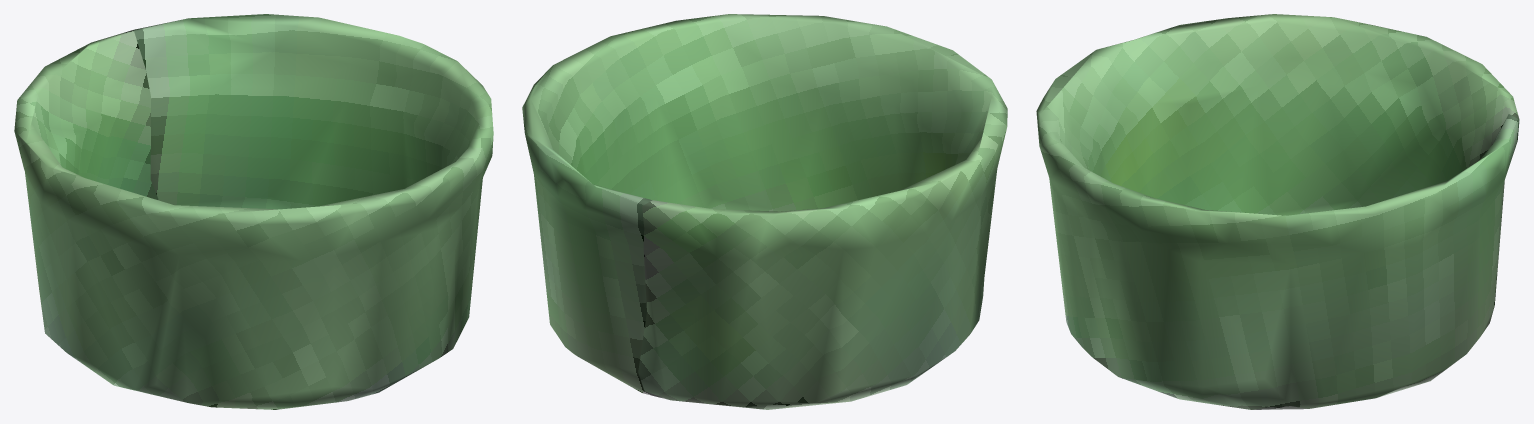
File: 45oz_RAMEKIN_ASST_DEEP_COLORS-low.glb
3 views of the same model, side by side, from view 1: azimuth 30°, elevation 25°; view 2: azimuth 150°, elevation 25°; view 3: azimuth 270°, elevation 25° (orthographic).
Visible parts, largest first — view 1: 45oz_RAMEKIN_ASST_DEEP_COLORS; view 2: 45oz_RAMEKIN_ASST_DEEP_COLORS; view 3: 45oz_RAMEKIN_ASST_DEEP_COLORS.
Boxes of the visible parts, x1=… form: 45oz_RAMEKIN_ASST_DEEP_COLORS: x1=14, y1=14, x2=493, y2=409; 45oz_RAMEKIN_ASST_DEEP_COLORS: x1=522, y1=14, x2=1007, y2=409; 45oz_RAMEKIN_ASST_DEEP_COLORS: x1=1036, y1=14, x2=1519, y2=409.
Bounding box in the file's own units: 0.0892 × 0.0437 × 0.0895.
Materials: 1 (1 with a texture image).
